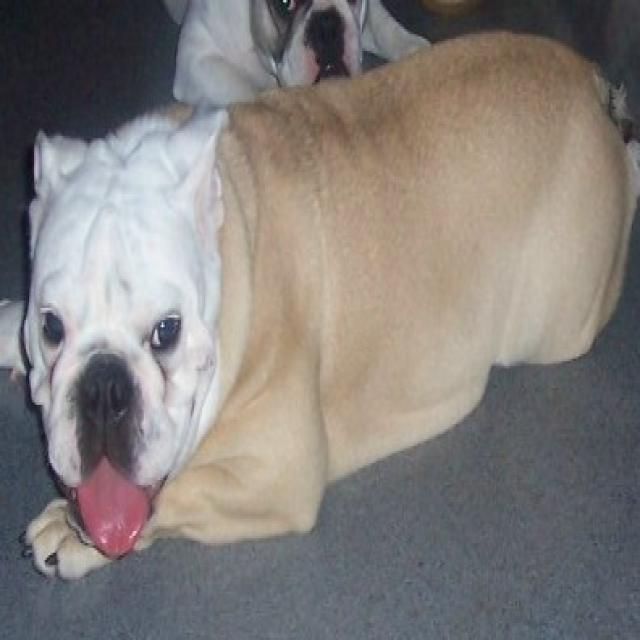Dogs: (0, 24, 638, 581)
